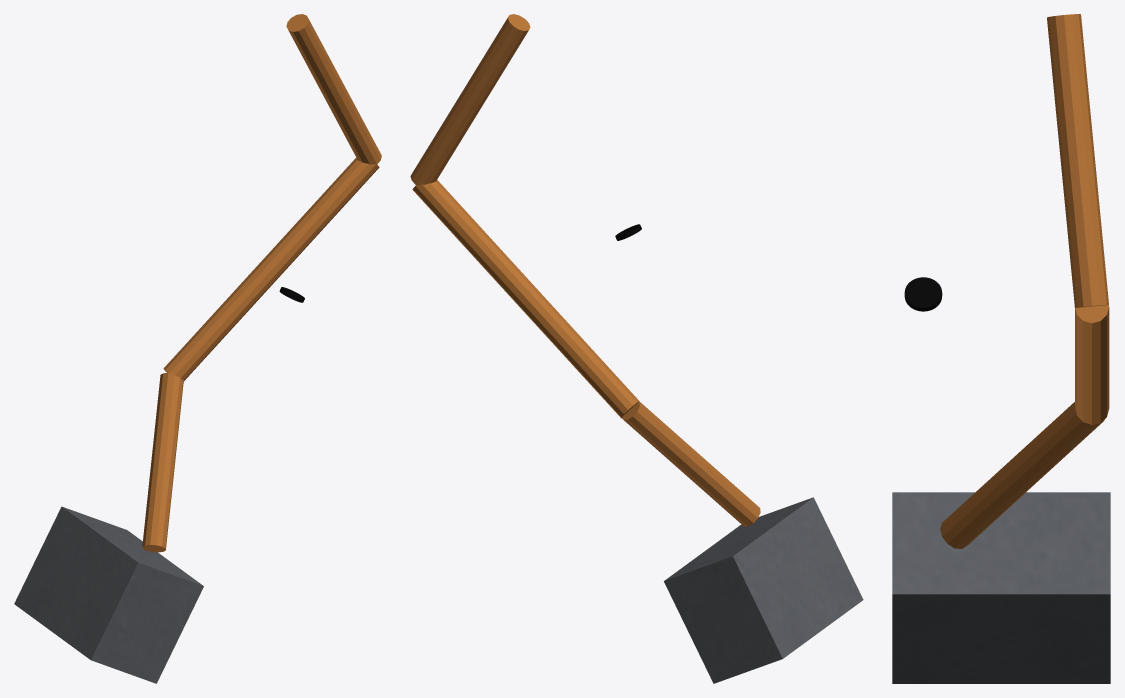
The model's file is earthing_loose.glb.
3 views of the same model, side by side, from view 1: azimuth 30°, elevation 25°; view 2: azimuth 150°, elevation 25°; view 3: azimuth 270°, elevation 25° (orthographic). The views are drawn at different scales.
Visible parts, largest first — view 1: earthing_loose; view 2: earthing_loose; view 3: earthing_loose.
Part boxes in pixels (x1,y1,x2,y2): earthing_loose: (14,14,381,683); earthing_loose: (410,14,863,683); earthing_loose: (892,14,1110,683).
Bounding box in the file's own units: 0.3782 × 0.5763 × 0.14.
Materials: 3 (1 with a texture image).
